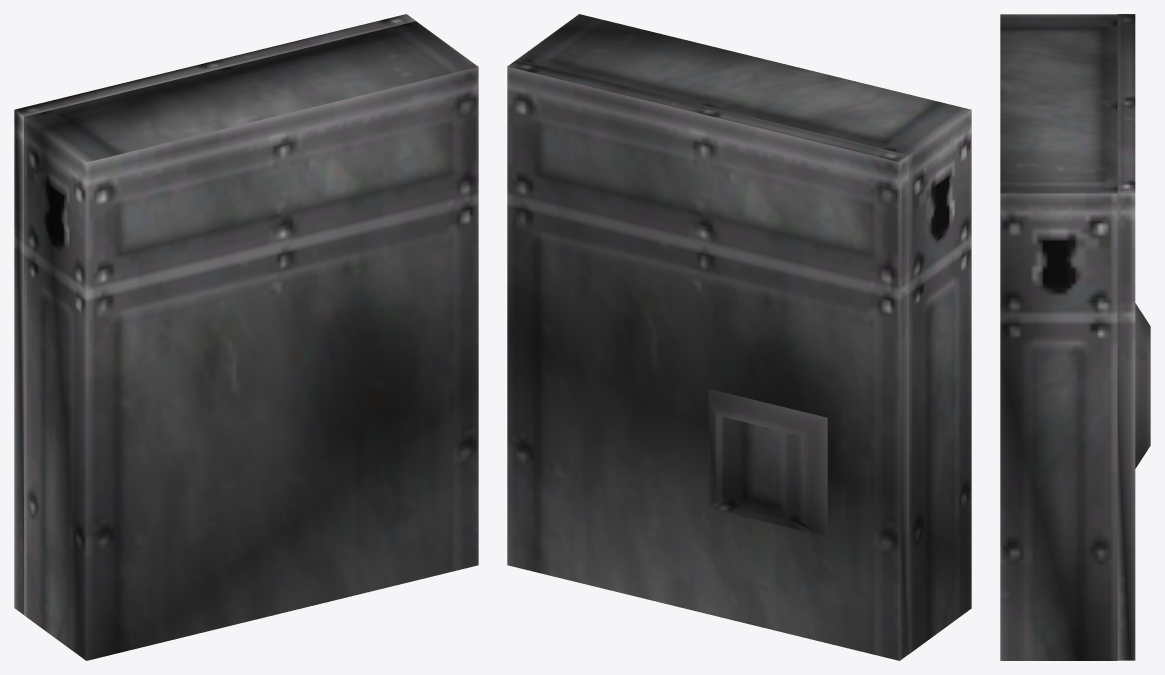
Rendered from INST_SWORDLIGHT_LOCKBOX_ANI1.obj.
3 views of the same model, side by side, from view 1: azimuth 30°, elevation 25°; view 2: azimuth 150°, elevation 25°; view 3: azimuth 270°, elevation 25° (orthographic). The views are drawn at different scales.
Visible parts, largest first — view 1: lockbox_Lod1_01, boxDoor_Lod1_01; view 2: boxDoor_Lod1_01, lockbox_Lod1_01; view 3: lockbox_Lod1_01, boxDoor_Lod1_01.
Boxes of the visible parts, x1,y1,x2,y2 form: lockbox_Lod1_01: [24, 21, 478, 660]; boxDoor_Lod1_01: [14, 14, 415, 614]; boxDoor_Lod1_01: [507, 59, 909, 660]; lockbox_Lod1_01: [517, 14, 971, 653]; lockbox_Lod1_01: [1000, 14, 1117, 660]; boxDoor_Lod1_01: [1117, 14, 1150, 660].
Size of the model in its own units: 70.01 by 85.03 by 24.76.
